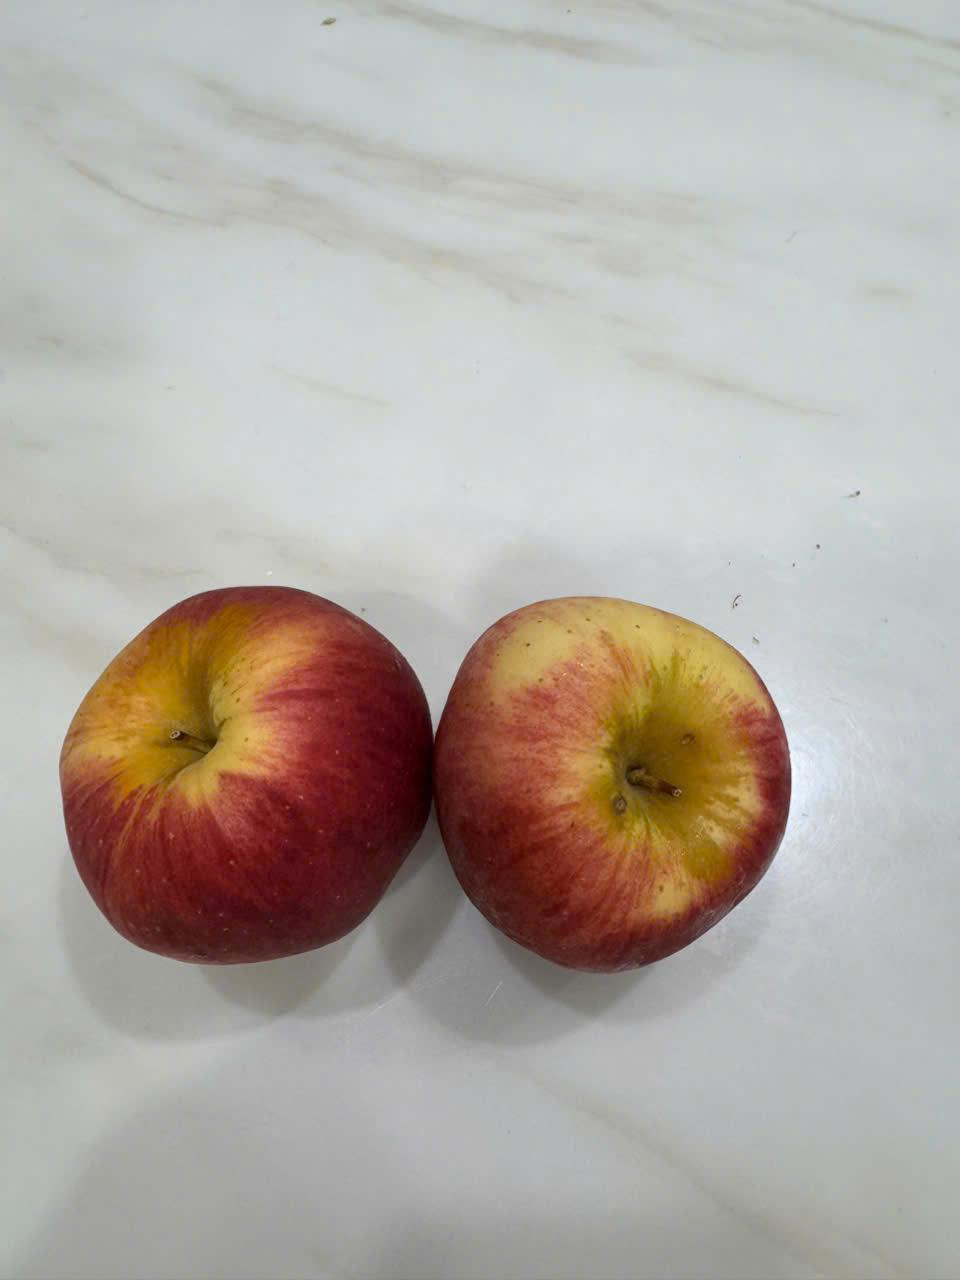apple: (40, 564, 435, 980), (432, 577, 807, 1012)
